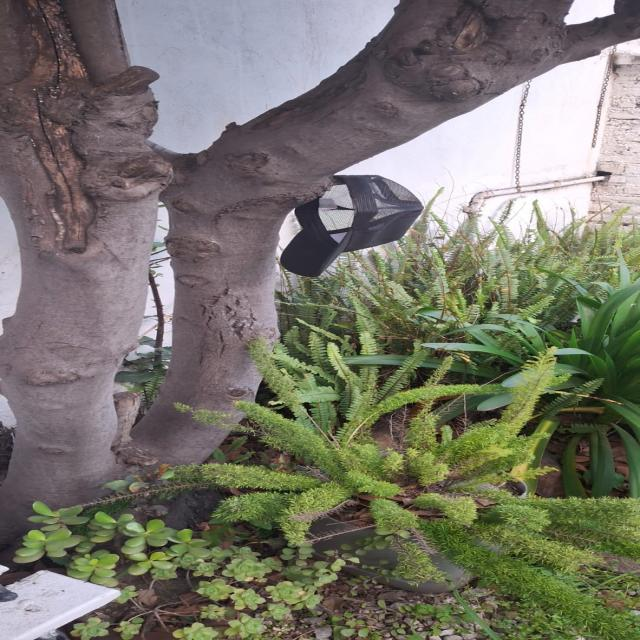Gorra: (272, 171, 423, 278)
